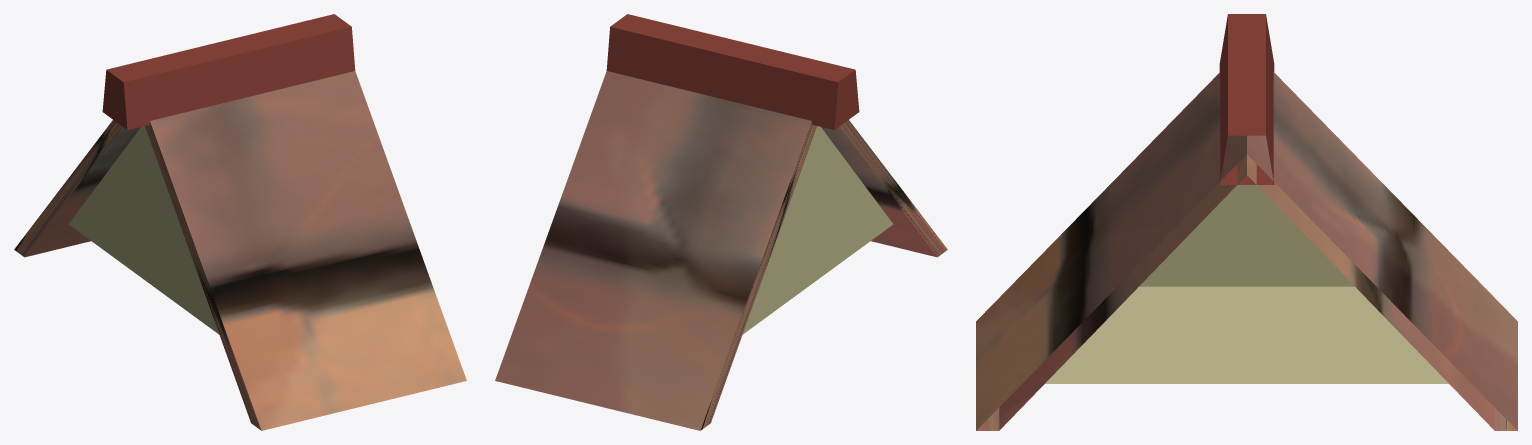
The model's file is roof_8x4x4_head.fbx.
3 renders of one model, left to right at view 1: azimuth 30°, elevation 25°; view 2: azimuth 150°, elevation 25°; view 3: azimuth 270°, elevation 25°, orthographic. The views are drawn at different scales.
Visible parts, largest first — view 1: roof_8x4x4_head; view 2: roof_8x4x4_head; view 3: roof_8x4x4_head.
Part boxes in pixels (x1,y1,x2,y2): roof_8x4x4_head: [14, 14, 466, 430]; roof_8x4x4_head: [495, 14, 947, 430]; roof_8x4x4_head: [976, 14, 1517, 430].
Bounding box in the file's own units: 500 × 565 × 940.
